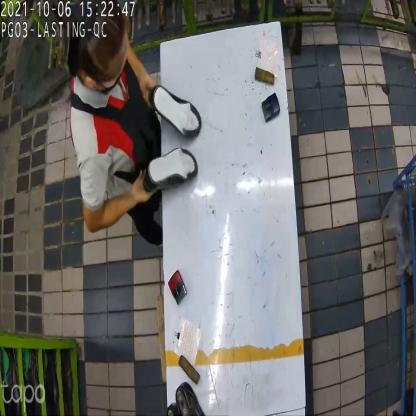shoes: (146, 74, 204, 189)
stamp: (260, 91, 280, 126), (171, 271, 188, 303)
